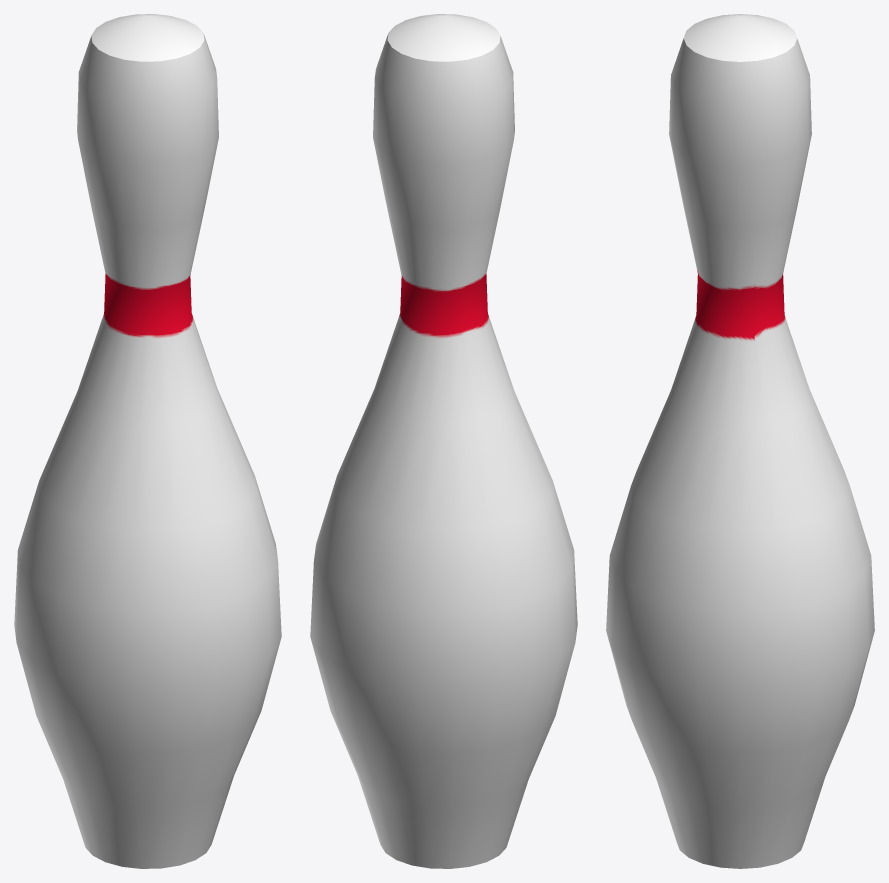
The model's file is BowlingPinModel.obj.
The picture shows the model from 3 angles, left to right: view 1: azimuth 30°, elevation 25°; view 2: azimuth 150°, elevation 25°; view 3: azimuth 270°, elevation 25°; orthographic projection.
Parts seen in each view (by area): view 1: pCylinder1; view 2: pCylinder1; view 3: pCylinder1.
Part boxes in pixels (x1,y1,x2,y2): pCylinder1: (14, 14, 281, 868); pCylinder1: (310, 14, 577, 868); pCylinder1: (606, 14, 874, 868).
Size of the model in its own units: 0.9015 by 3.06 by 0.9015.
